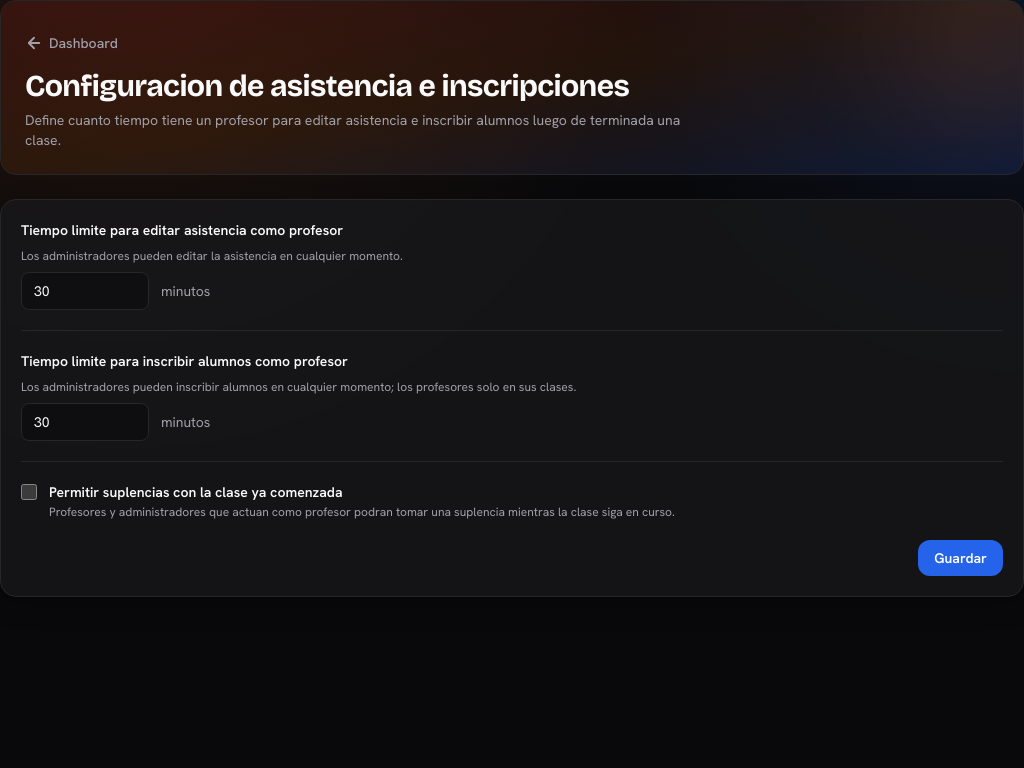
Test case: GymAdminAttendanceEditConfigPage › carga y guarda el limite en minutos
Check: the heading "Configuracion de asistencia e inscripciones" is shown, box x1=25 y1=69 x2=697 y2=104
Check: the number field labelled "Tiempo limite para inscribir alumnos como profesor" holds "30", box x1=21 y1=403 x2=149 y2=441
Replace the text in the number field labelled "Tiempo limite para editar asistencia como profesor" with "15": (85, 291) x1=21 y1=272 x2=149 y2=310
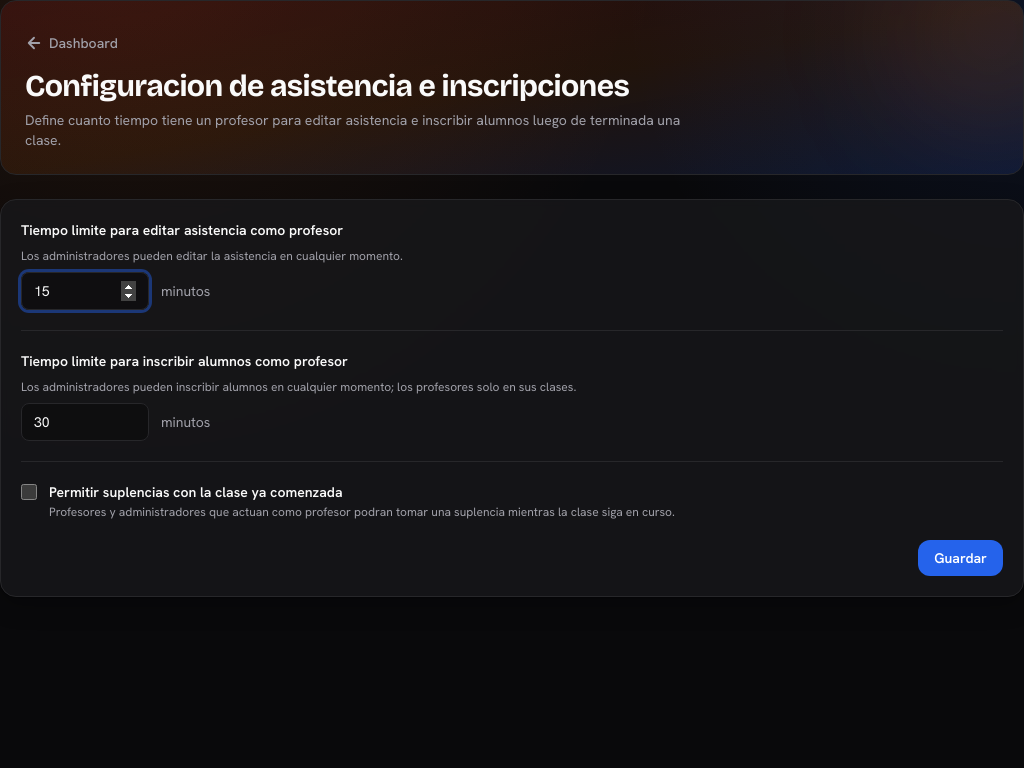
Replace the text in the number field labelled "Tiempo limite para inscribir alumnos como profesor" with "45": (85, 422) x1=21 y1=403 x2=149 y2=441
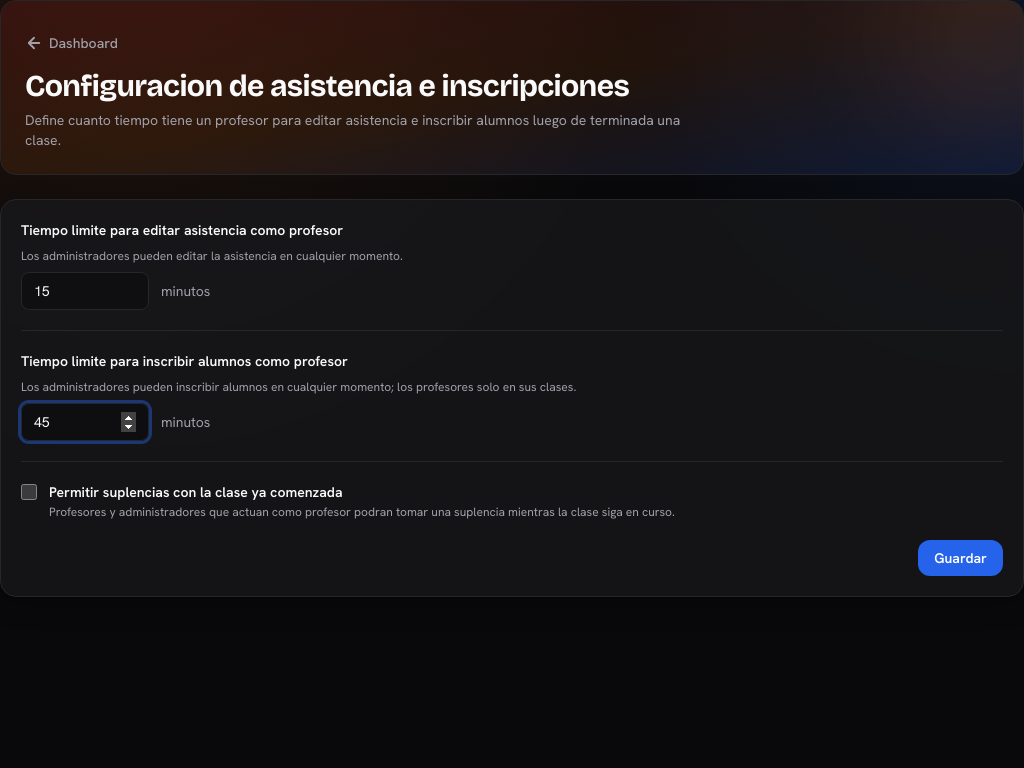
Click the checkbox labelled "Permitir suplencias con la clase ya comenzada": (29, 492) x1=21 y1=484 x2=37 y2=500
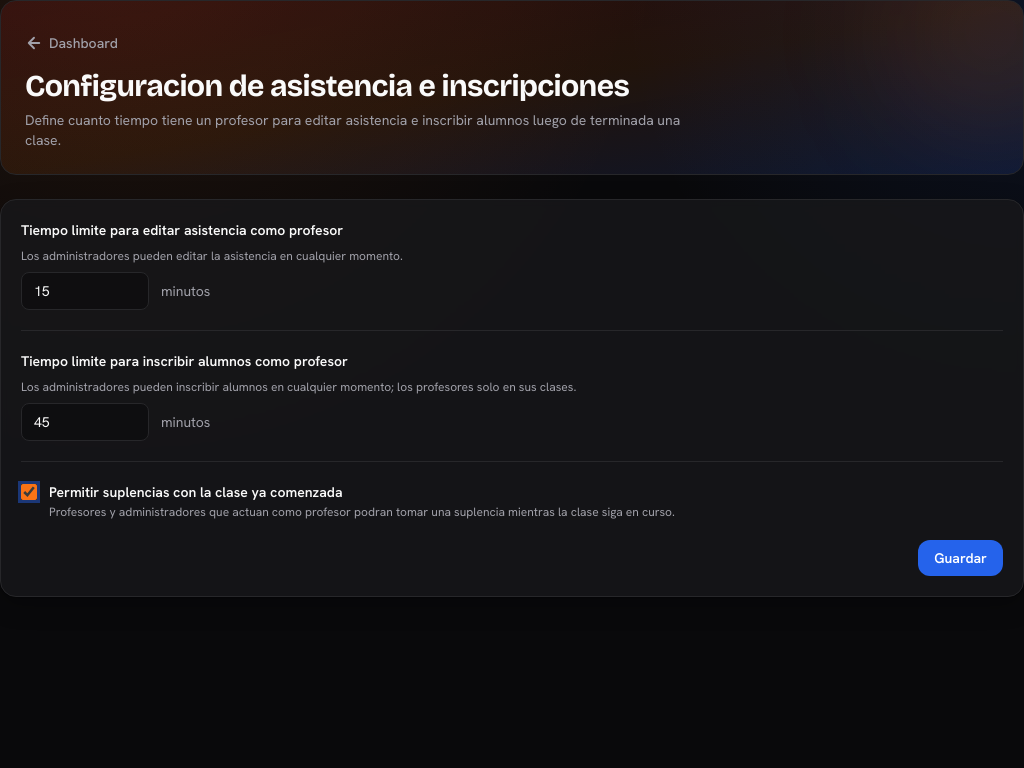
Click the button "Guardar": (961, 558) x1=918 y1=540 x2=1003 y2=576
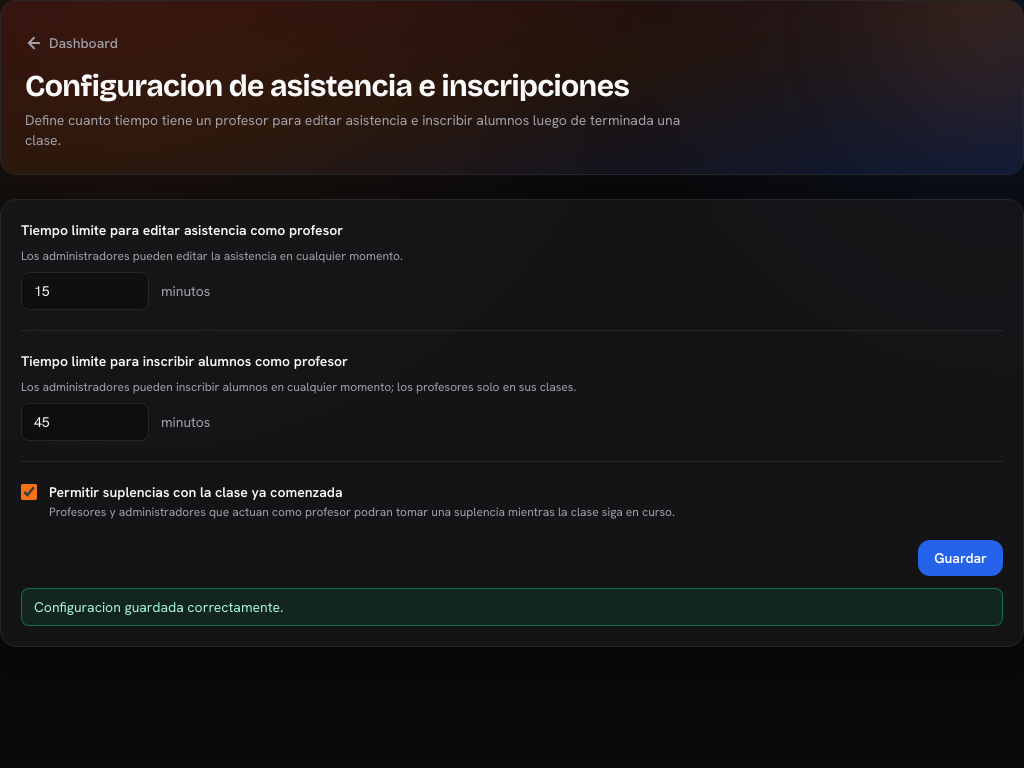
Check: the text "Configuracion guardada correctamente." is shown, box x1=21 y1=588 x2=1003 y2=626
